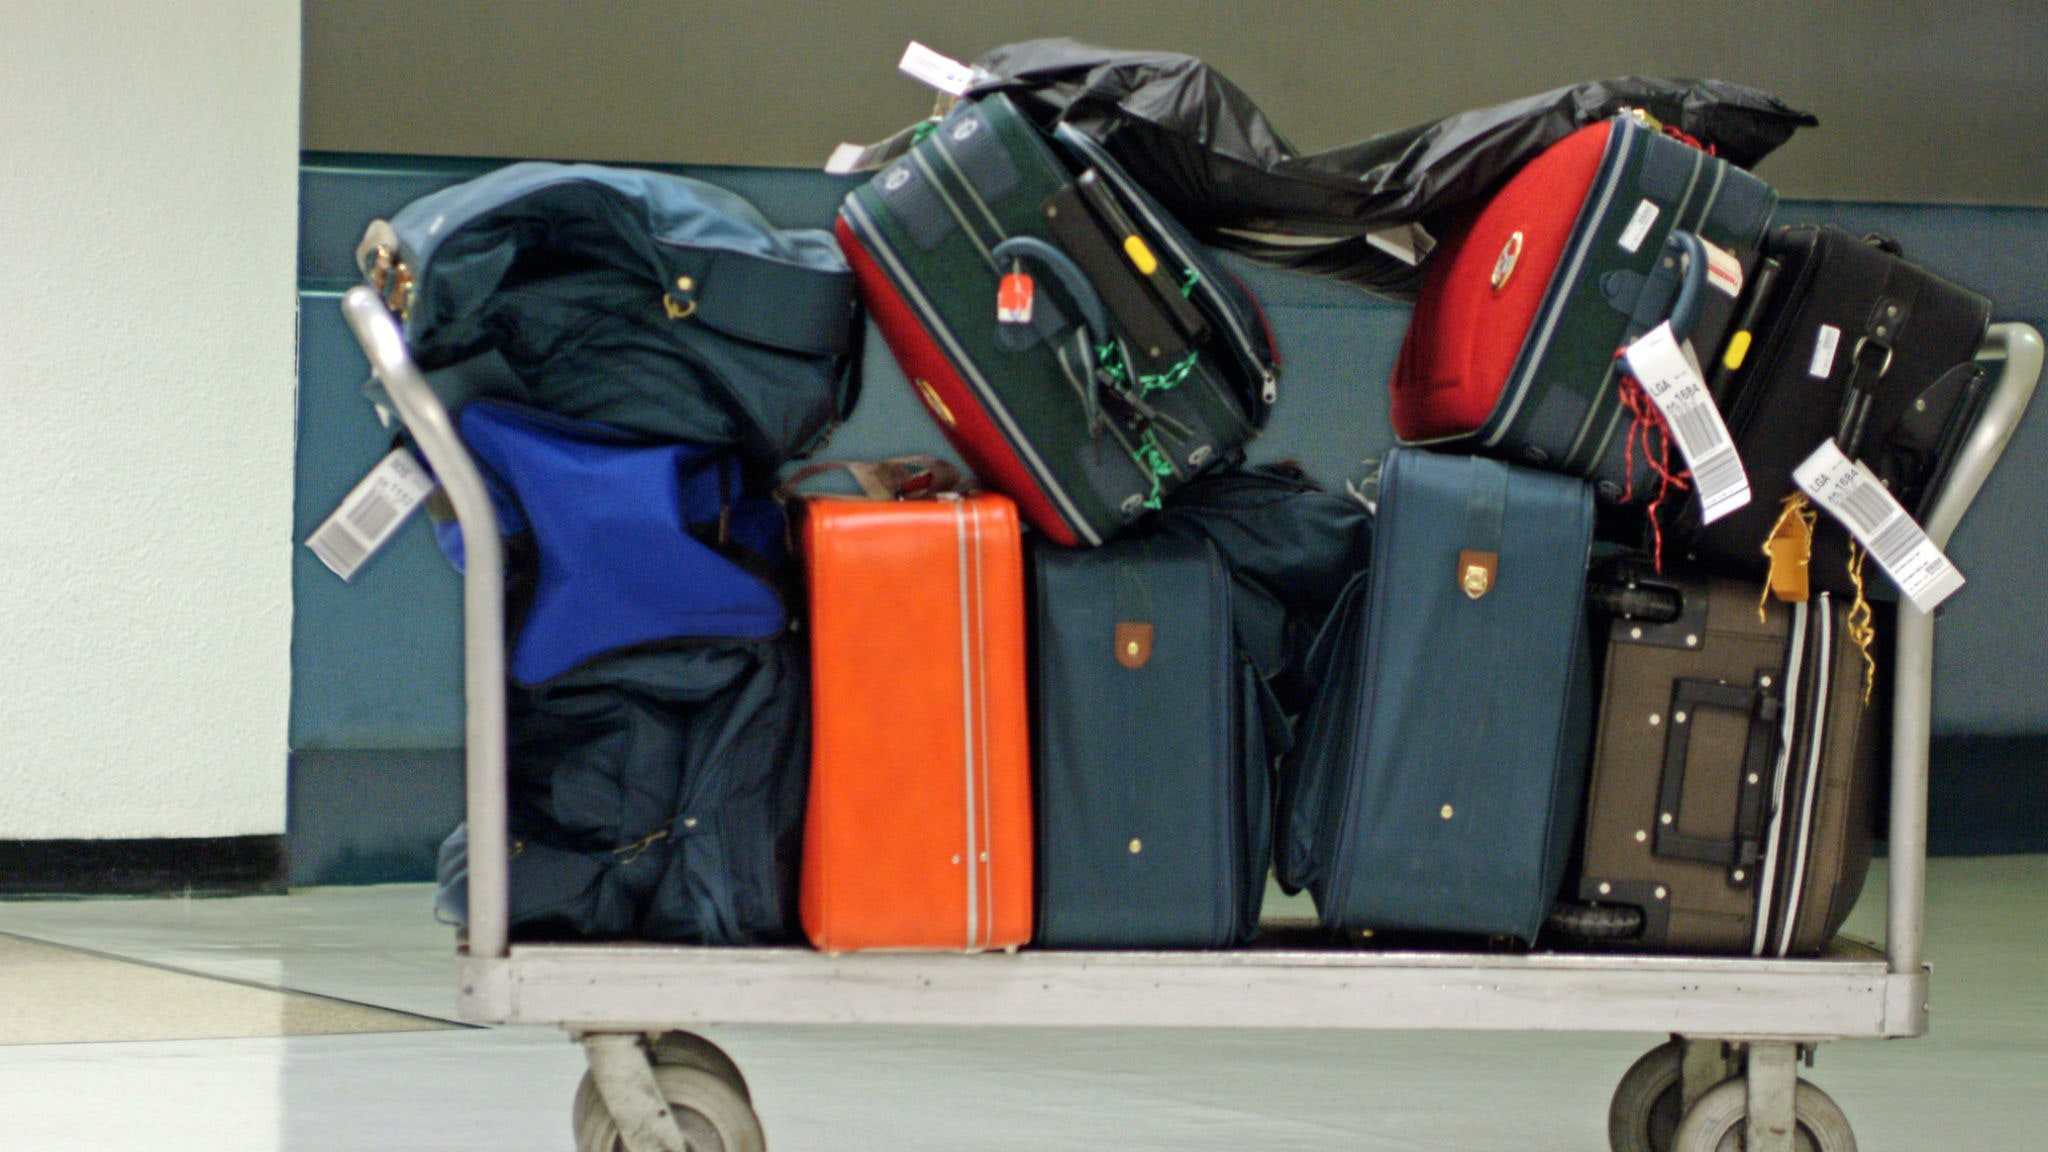backpack: (338, 167, 883, 467)
luggage: (823, 76, 1305, 560), (1272, 433, 1598, 973), (769, 467, 1073, 999), (1377, 122, 1793, 506), (1556, 537, 1909, 983), (1009, 544, 1317, 980), (1687, 190, 1996, 591)
